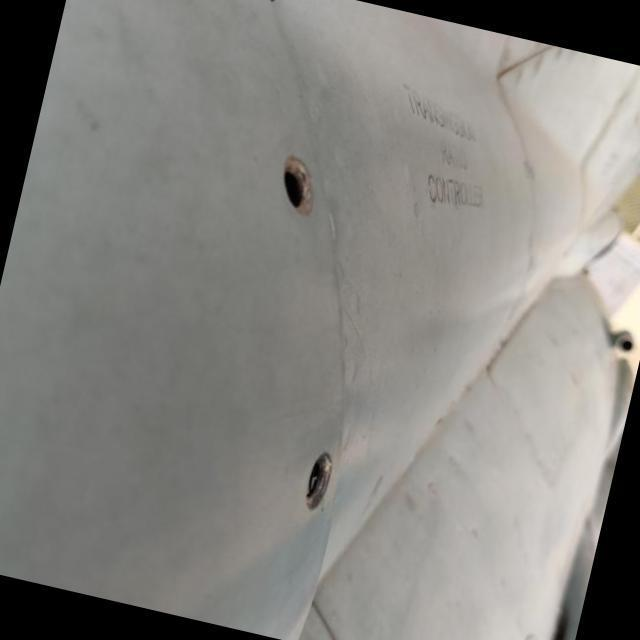Missing Fastener: (276, 152, 322, 224), (297, 450, 337, 512)
